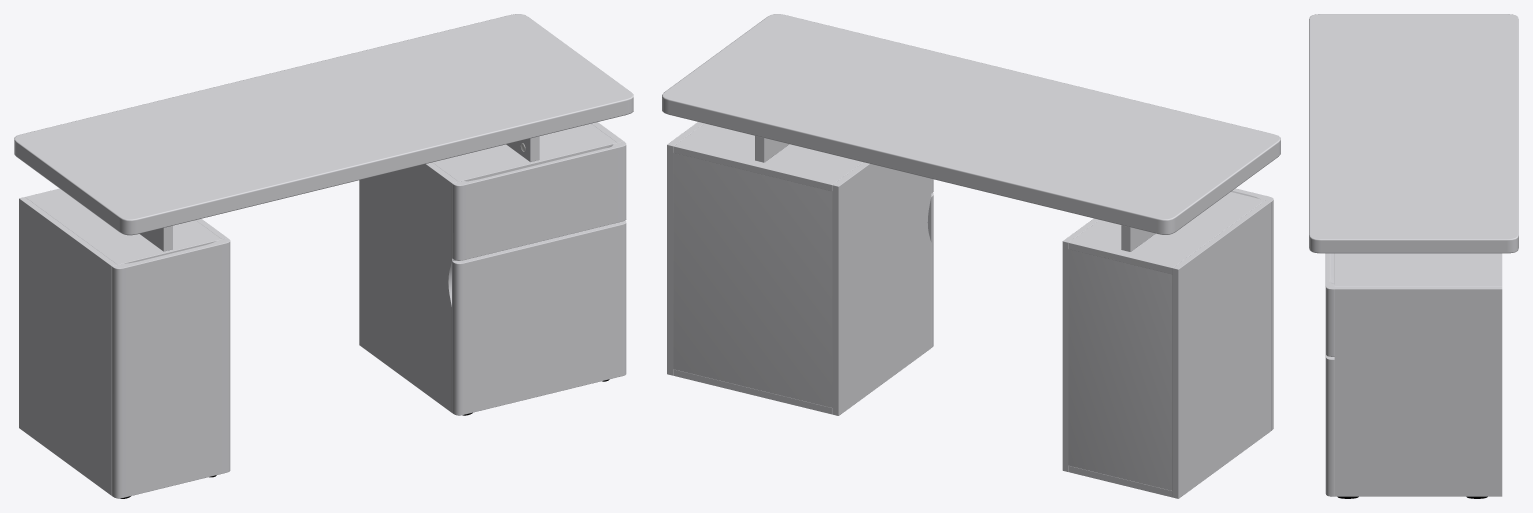
File: abo-B07K6N3TNH.glb
3 views of the same model, side by side, from view 1: azimuth 30°, elevation 25°; view 2: azimuth 150°, elevation 25°; view 3: azimuth 270°, elevation 25° (orthographic). The views are drawn at different scales.
Size of the model in its own units: 1.4 by 0.762 by 0.55.
1 material, 1 textured.
